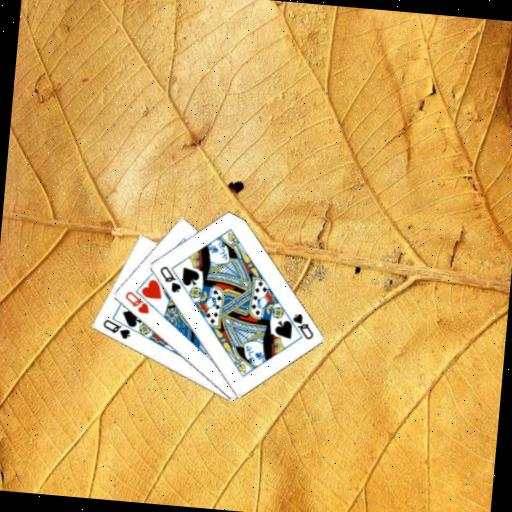QH: (121, 288, 152, 316)
QS: (155, 263, 185, 295), (287, 310, 317, 342), (99, 316, 133, 342)
